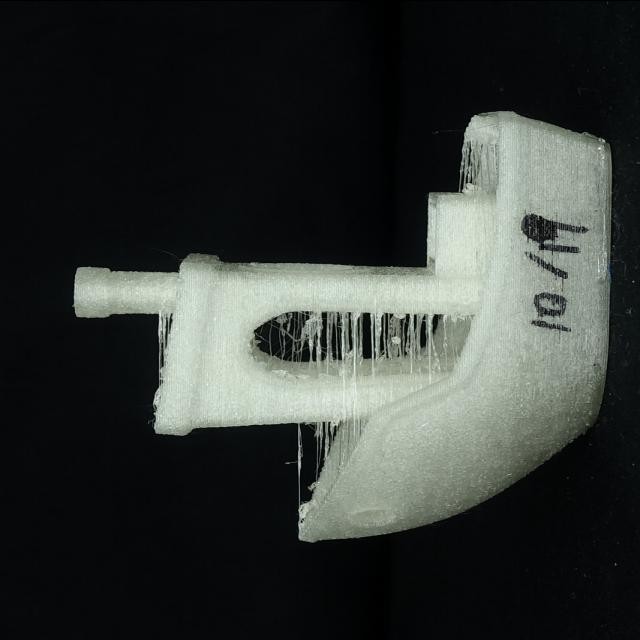Stringing: (256, 314, 461, 372), (292, 424, 310, 468), (152, 312, 170, 356), (310, 422, 342, 442)
